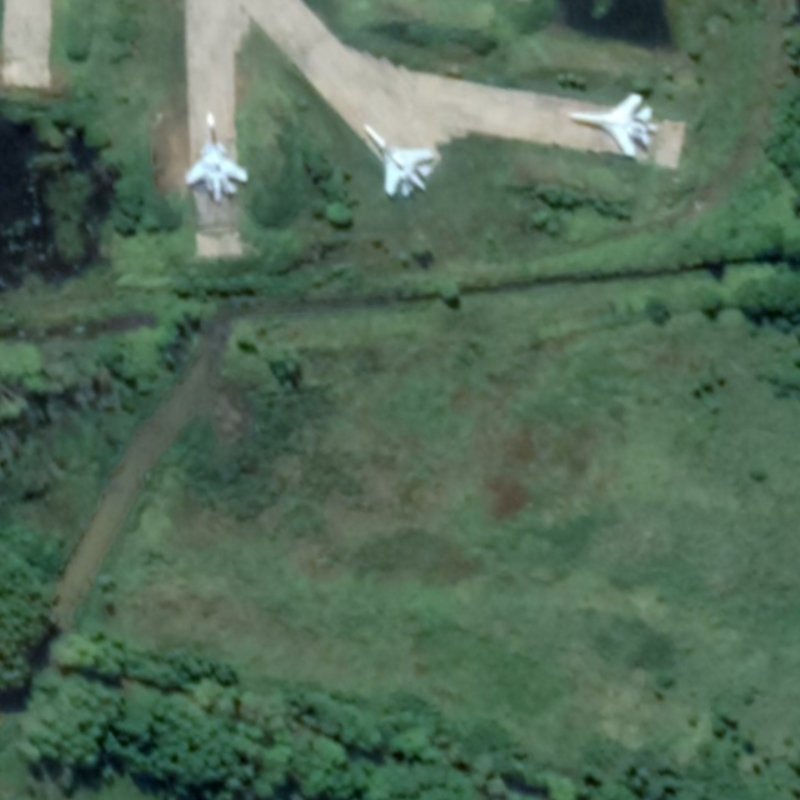A1: (358, 119, 439, 201), (568, 90, 661, 161)
A19: (183, 108, 250, 203)
